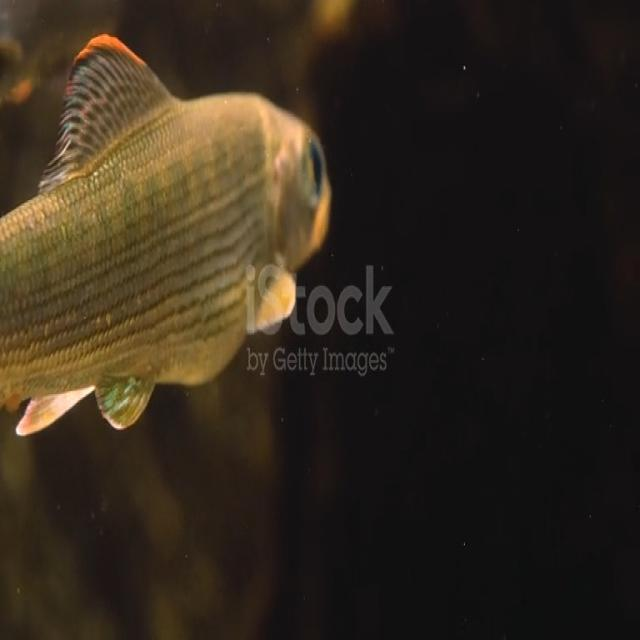fish: (0, 26, 333, 454)
